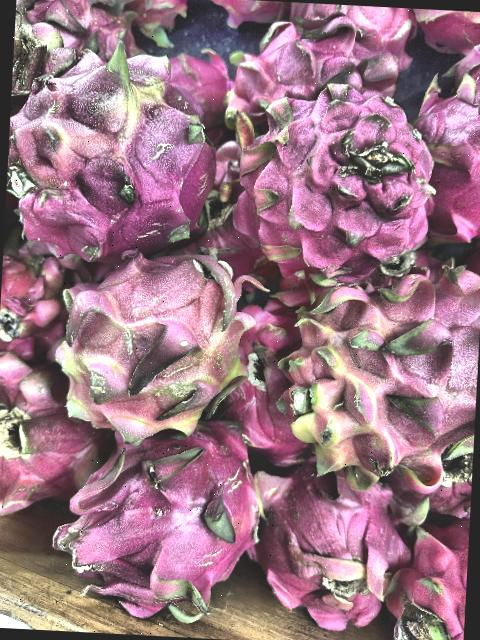buah-naga-belum-matang: (8, 40, 223, 263), (43, 252, 268, 454), (284, 268, 480, 490)
buah-naga-matang: (226, 73, 441, 280), (68, 433, 274, 616), (244, 453, 421, 637), (225, 16, 398, 138), (0, 355, 113, 526), (406, 55, 480, 251), (12, 0, 143, 93), (284, 2, 422, 67), (403, 515, 470, 640), (0, 247, 65, 357)
